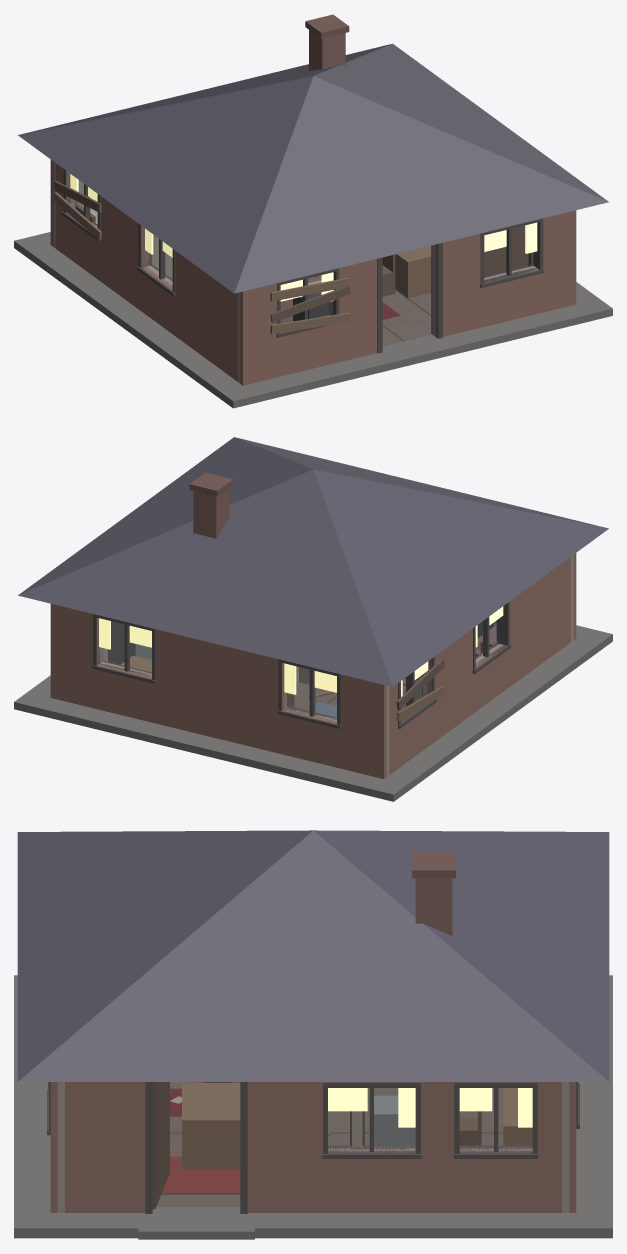
Rendered from casa_08_esquina.glb.
The picture shows the model from 3 angles, top to bottom: view 1: azimuth 30°, elevation 25°; view 2: azimuth 150°, elevation 25°; view 3: azimuth 270°, elevation 25°; orthographic projection. The views are drawn at different scales.
Parts seen in each view (by area): view 1: roof, wall_south, floor, walls_exterior, decor_grim, furniture, chimney, glass, doors; view 2: roof, walls_exterior, floor, chimney, glass, furniture, decor_grim, wall_south; view 3: roof, walls_exterior, floor, furniture, exterior_props, glass, chimney, decor_grim, wall_south, doors, walls_interior.
Boxes of the visible parts, x1,y1,x2,y2 form: roof: [18, 43, 608, 293]; wall_south: [237, 210, 576, 385]; floor: [14, 232, 612, 408]; walls_exterior: [50, 159, 533, 381]; decor_grim: [54, 180, 400, 334]; furniture: [75, 203, 431, 323]; chimney: [305, 14, 349, 70]; glass: [70, 174, 537, 301]; doors: [484, 225, 528, 276]; roof: [18, 437, 608, 686]; walls_exterior: [50, 557, 570, 778]; floor: [14, 623, 612, 801]; chimney: [189, 472, 233, 538]; glass: [99, 606, 503, 696]; furniture: [103, 621, 497, 717]; decor_grim: [309, 658, 444, 721]; wall_south: [494, 553, 576, 641]; roof: [17, 830, 609, 1081]; walls_exterior: [65, 1082, 579, 1213]; floor: [14, 975, 612, 1238]; furniture: [182, 1082, 532, 1168]; exterior_props: [21, 1082, 254, 1239]; glass: [328, 1088, 532, 1127]; chimney: [412, 852, 455, 935]; decor_grim: [161, 1088, 330, 1193]; wall_south: [47, 1082, 64, 1212]; doors: [152, 1082, 169, 1209]; walls_interior: [350, 1088, 503, 1147].
Size of the model in its own units: 8.3 by 4.37 by 8.2.
